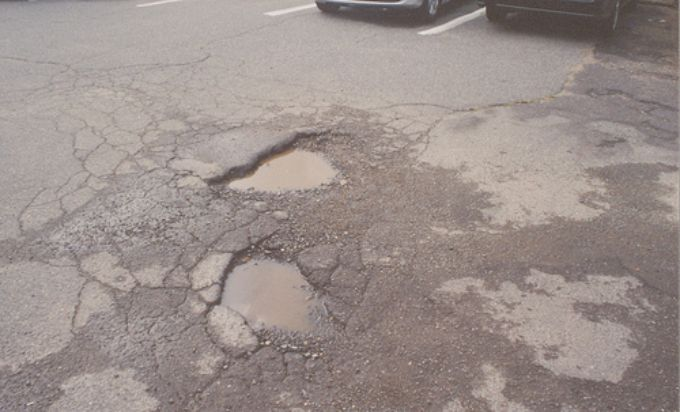pothole: (207, 243, 343, 352), (206, 127, 357, 196)
